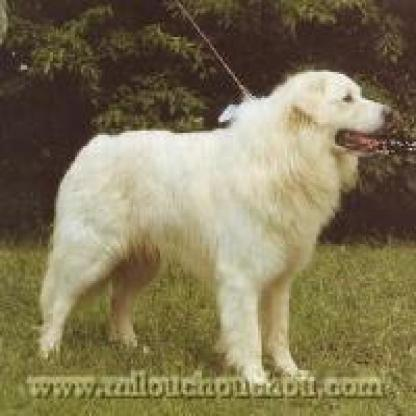kuvasz: (27, 54, 399, 377)
